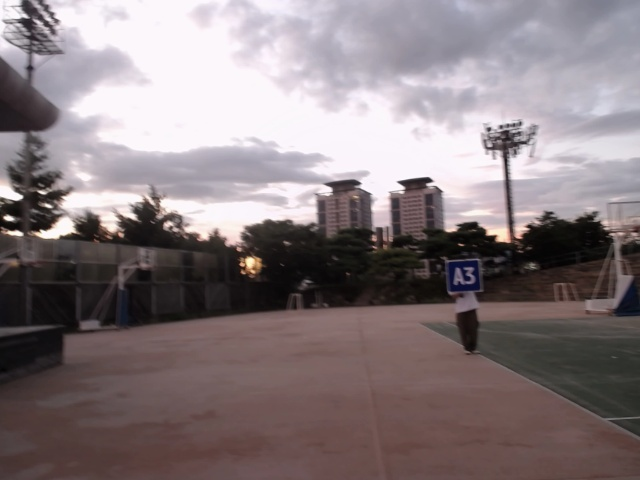delivery_a3: (446, 260, 481, 293)
